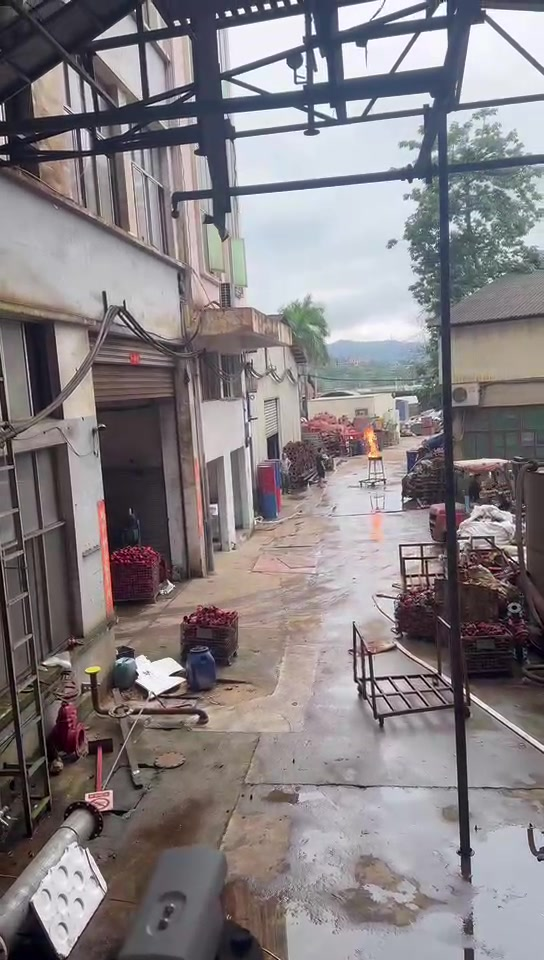fire: (362, 426, 379, 456)
